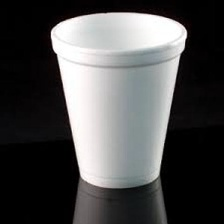paper_cup: (46, 7, 191, 192)
